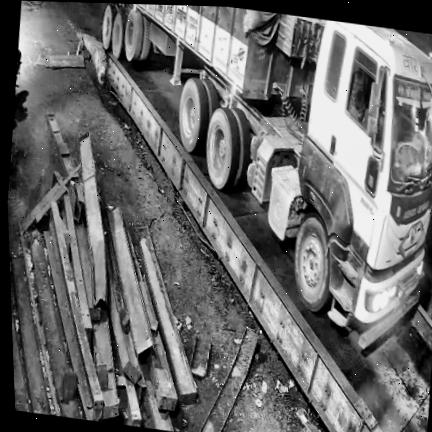tyre: (294, 212, 331, 312), (206, 108, 240, 189), (179, 79, 209, 152), (234, 109, 252, 186), (125, 10, 144, 61), (112, 9, 128, 60), (202, 80, 220, 121), (139, 16, 151, 60), (102, 6, 114, 49)
